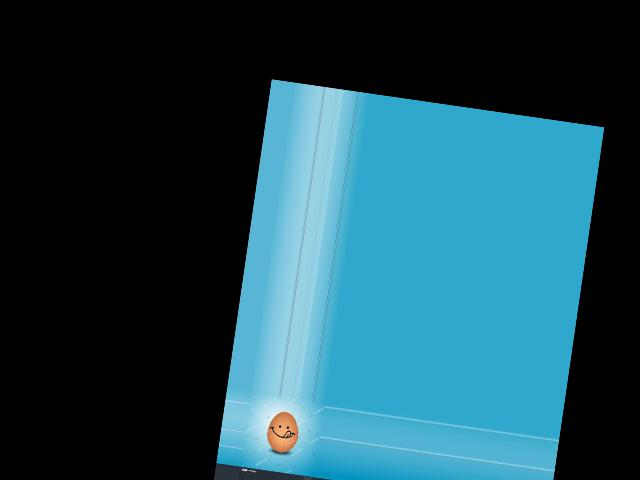egg: (264, 409, 301, 454)
